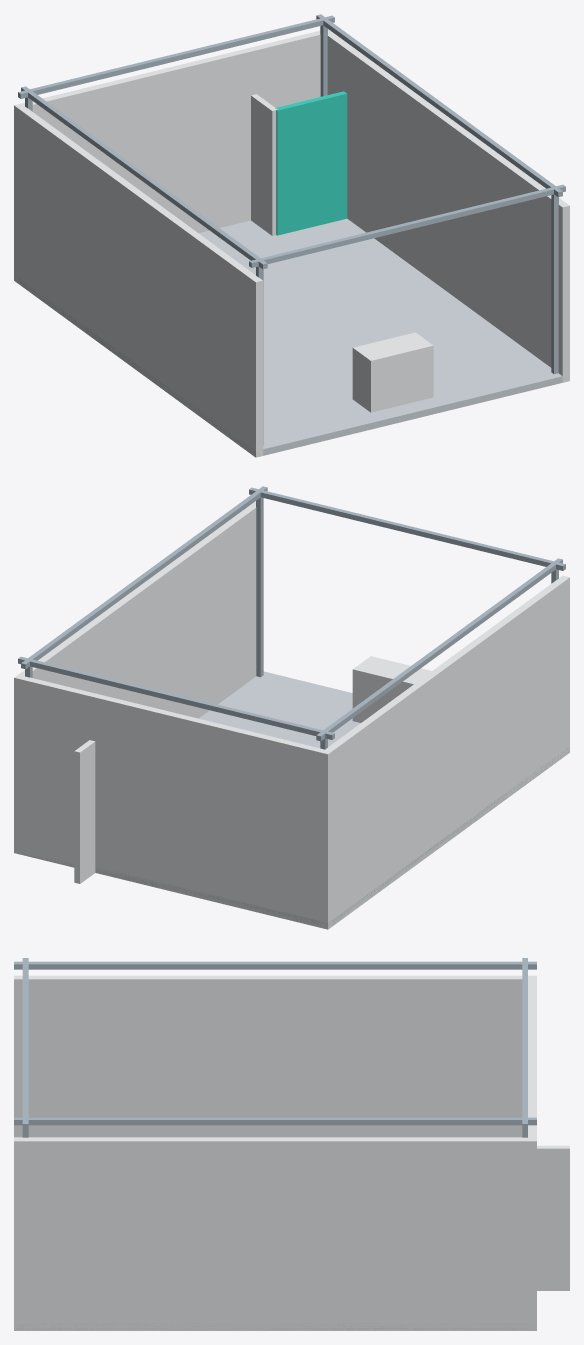
3 views of the same model, one above another, from view 1: azimuth 30°, elevation 25°; view 2: azimuth 150°, elevation 25°; view 3: azimuth 270°, elevation 25° (orthographic). The views are drawn at different scales.
Visible parts, largest first — view 1: Exhibition Booth Concept; view 2: Exhibition Booth Concept; view 3: Exhibition Booth Concept.
Part boxes in pixels (x1,y1,x2,y2): Exhibition Booth Concept: (14,14,569,457); Exhibition Booth Concept: (14,486,569,929); Exhibition Booth Concept: (14,958,569,1330).
Size of the model in its own units: 6 by 3.49 by 8.51.
